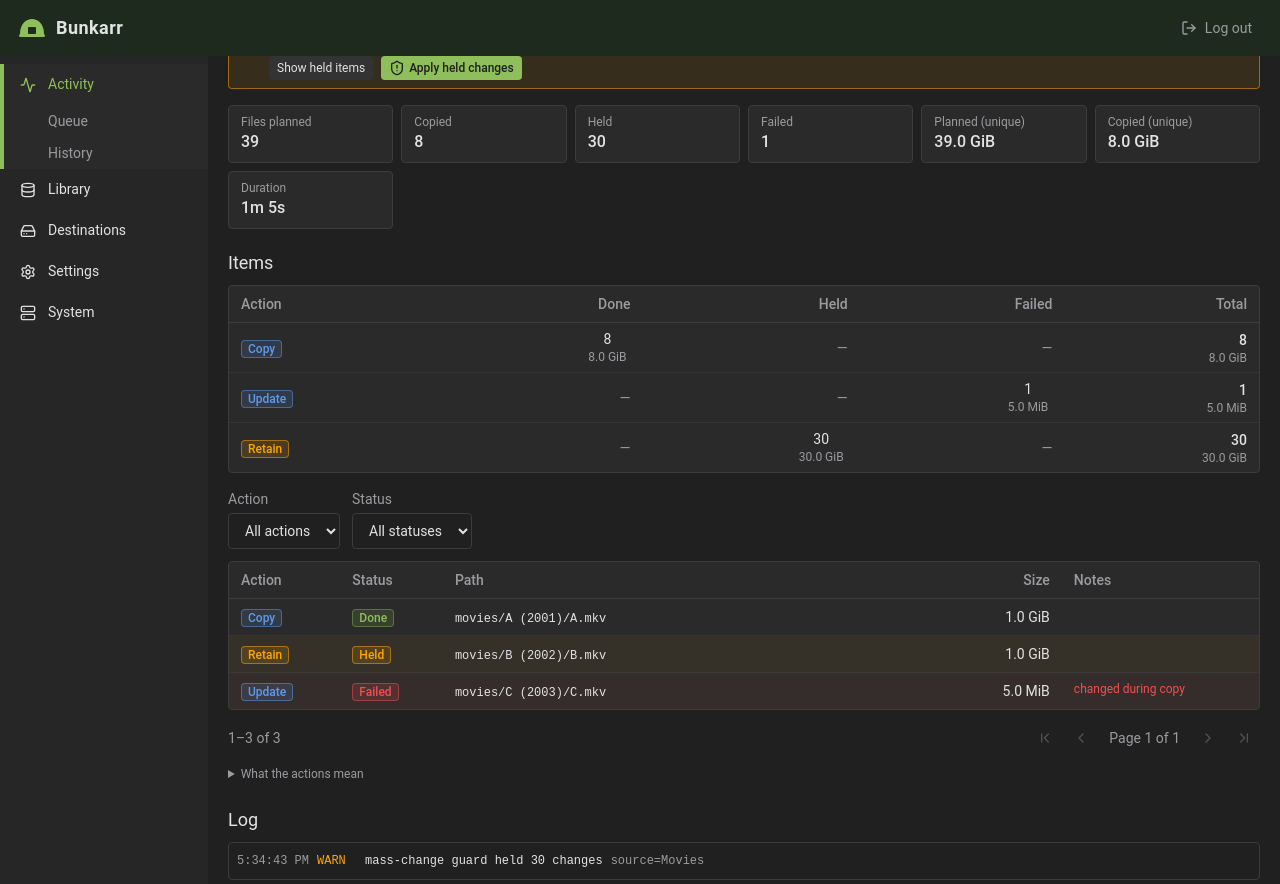
Test: Job detail › shows stats, the item summary, filters items and logs
(page scrolled)
expect the text "39.0 GiB" is shown: met, box 934,132 -> 995,151
expect the text "1m 5s" is shown: met, box 241,198 -> 285,217
Select "Update" in the dropdown labelled "Action" at (284, 531), box 228,513 -> 340,549
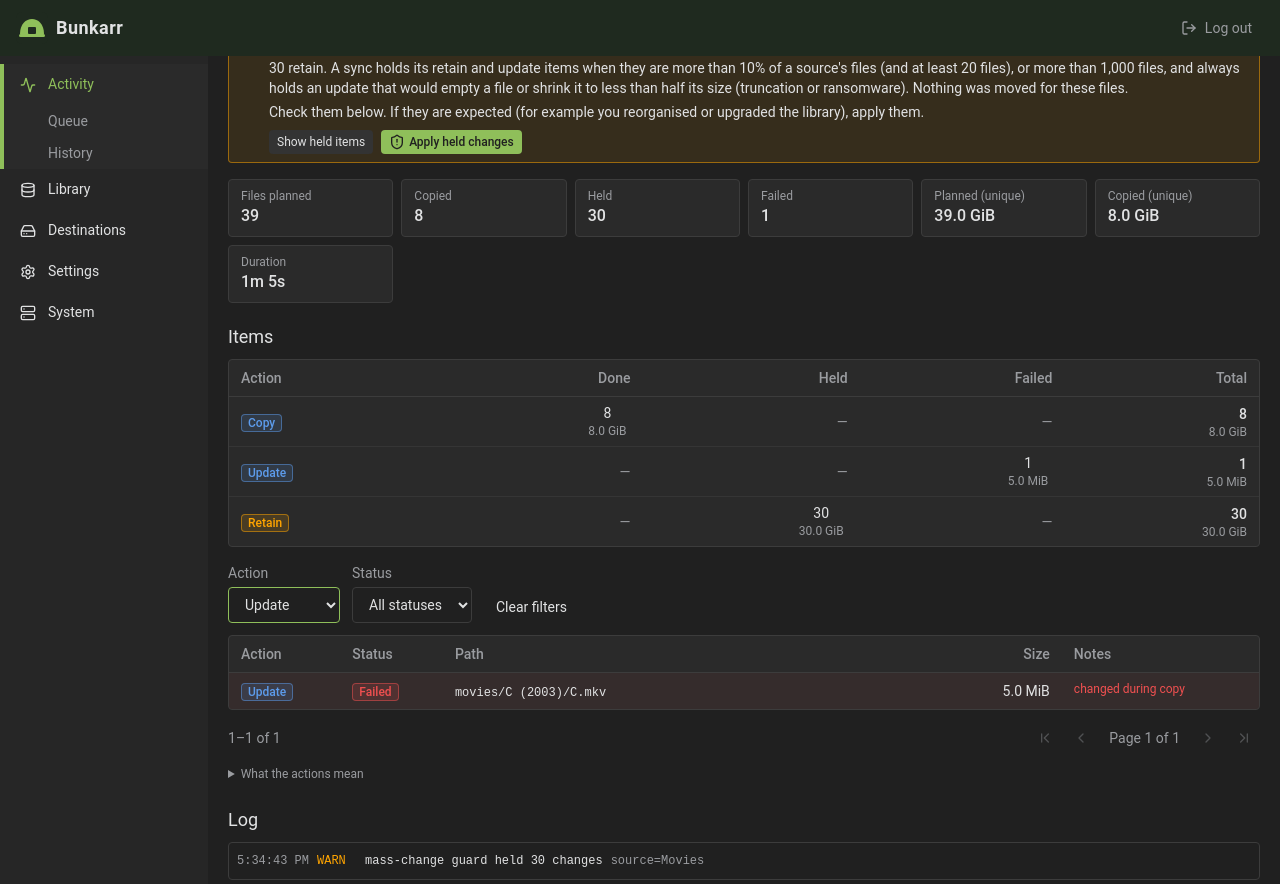
expect the text "movies/C (2003)/C.mkv" is shown: met, box 455,686 -> 606,700
expect the text "movies/A (2001)/A.mkv" is gone: met
Click the button "Clear filters" at (531, 607), box 484,591 -> 579,623
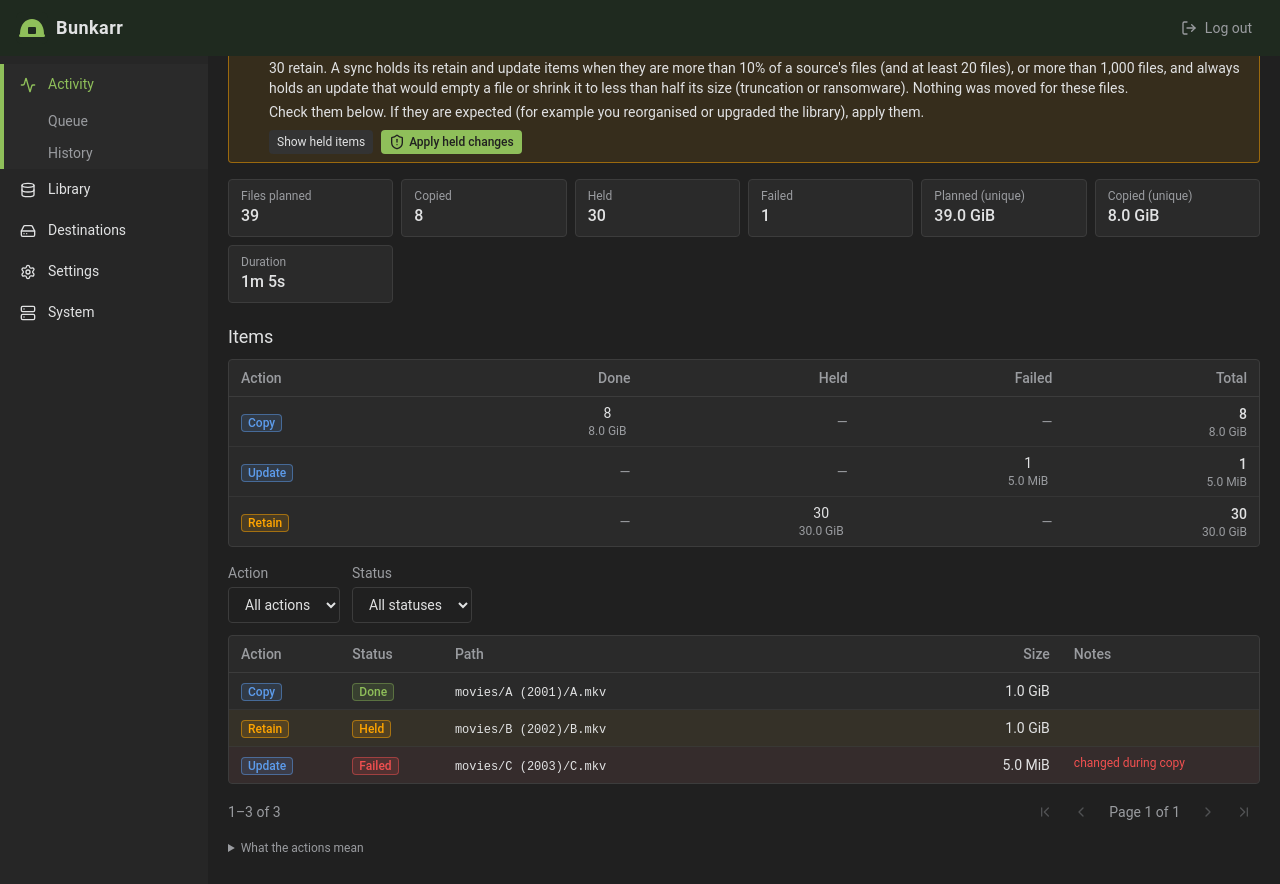
Click the button with aria-label "Show copy items: done" at (607, 421), box 584,403 -> 630,439
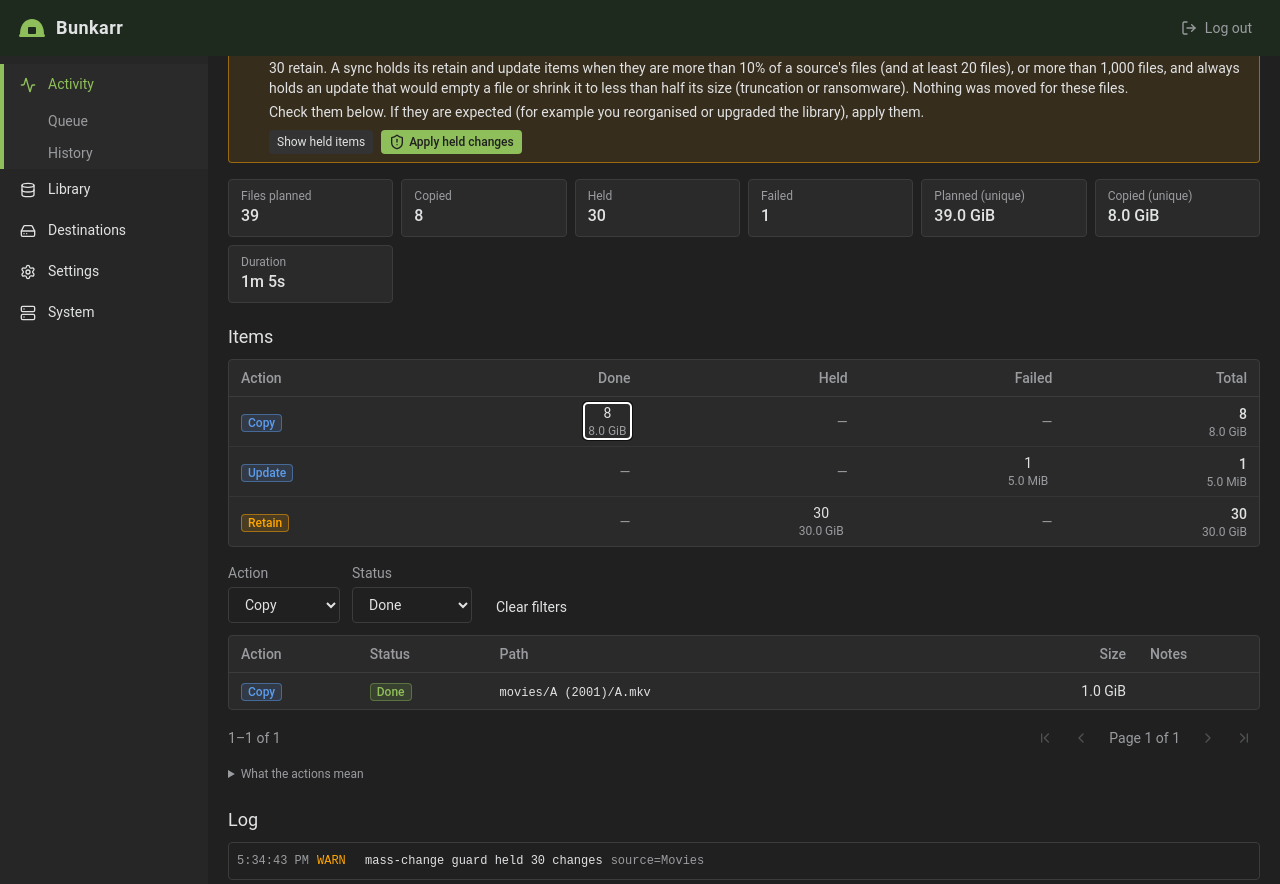
expect the text "movies/C (2003)/C.mkv" is gone: met
